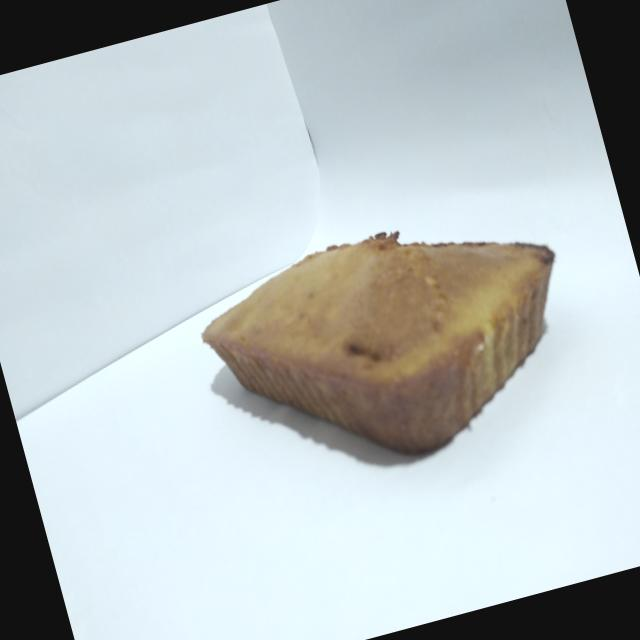Sopa: (175, 169, 604, 518)
